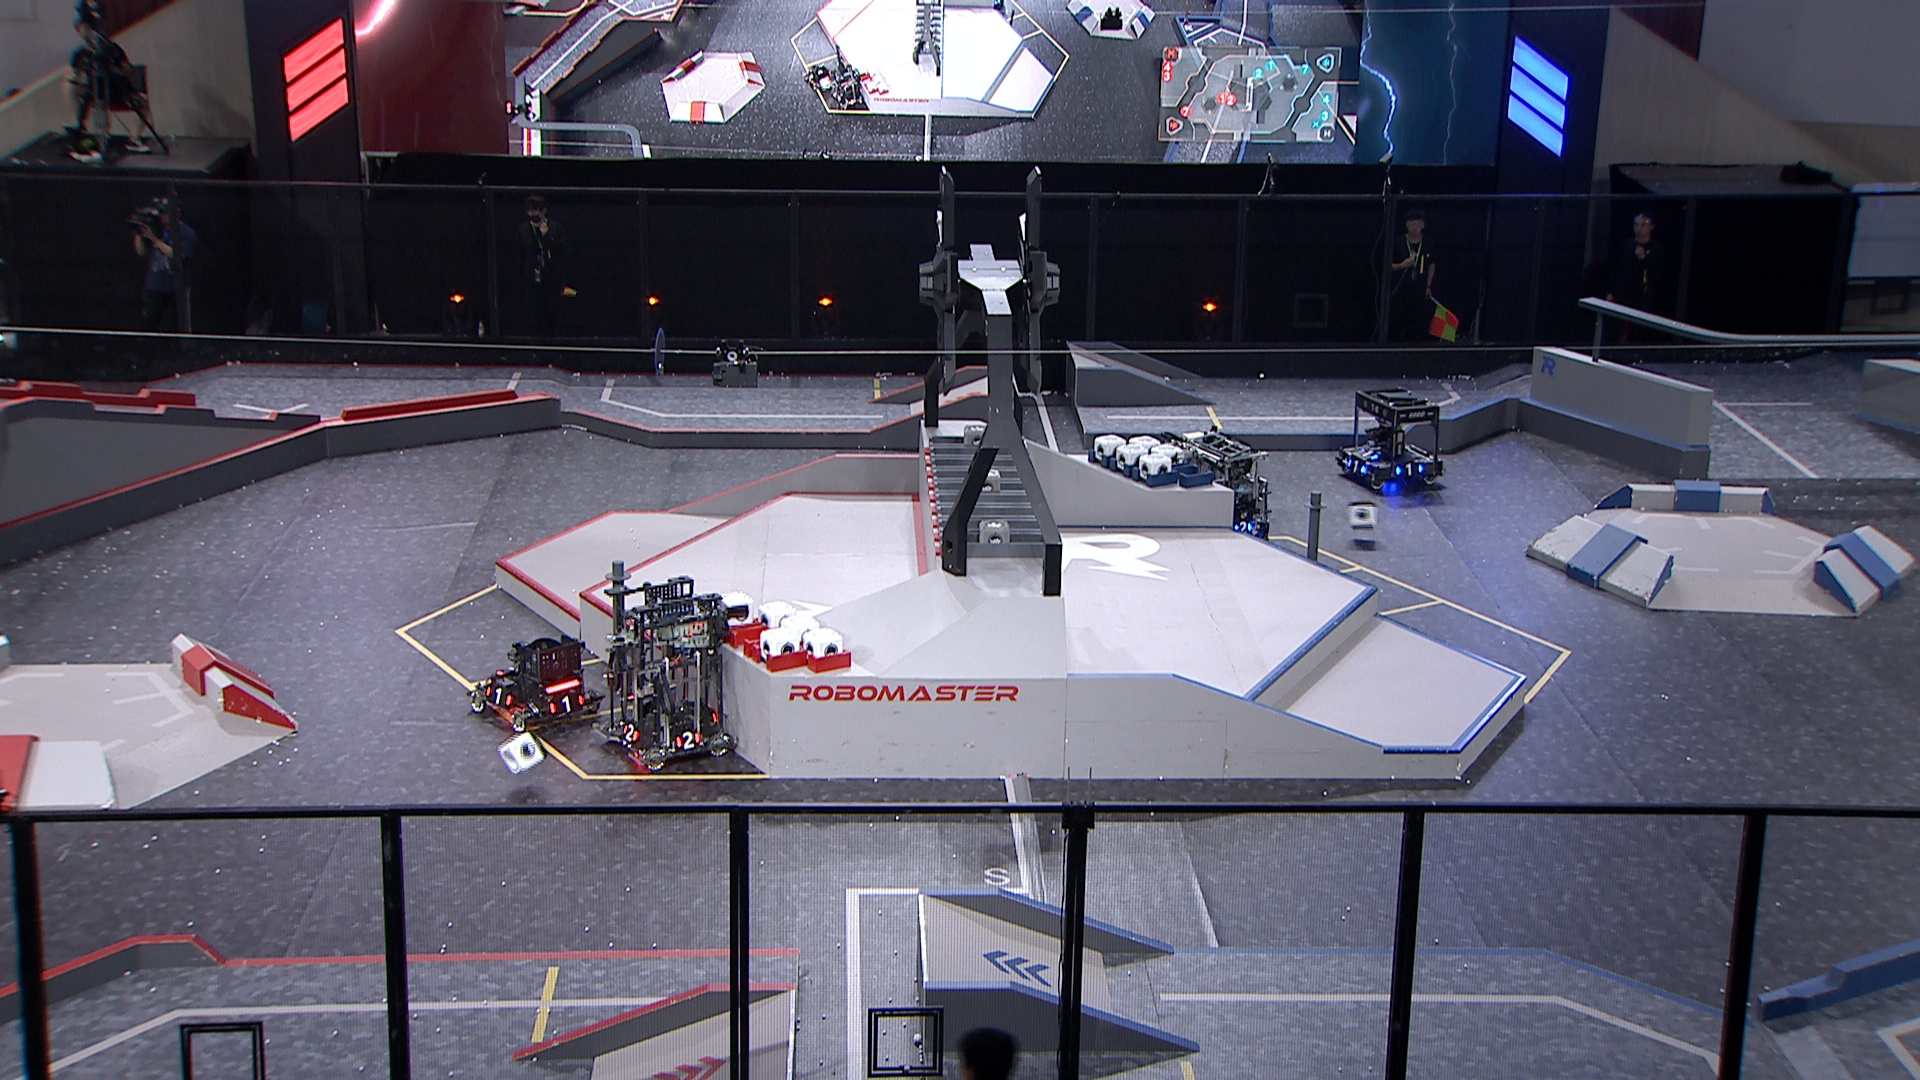armor: (550, 695, 585, 717), (485, 683, 516, 708), (674, 732, 702, 752), (1346, 458, 1371, 479), (1394, 462, 1425, 477), (622, 723, 642, 746), (1354, 447, 1379, 462), (1234, 520, 1255, 534)
car: (599, 575, 737, 771), (467, 632, 605, 731), (1333, 386, 1448, 489), (1172, 433, 1271, 546)
ignore: (828, 65, 864, 109), (803, 65, 836, 92), (506, 100, 537, 127)
